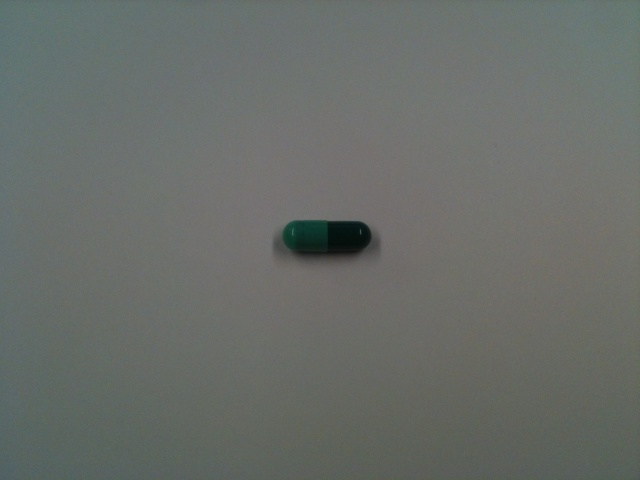capsule: (281, 218, 373, 258)
